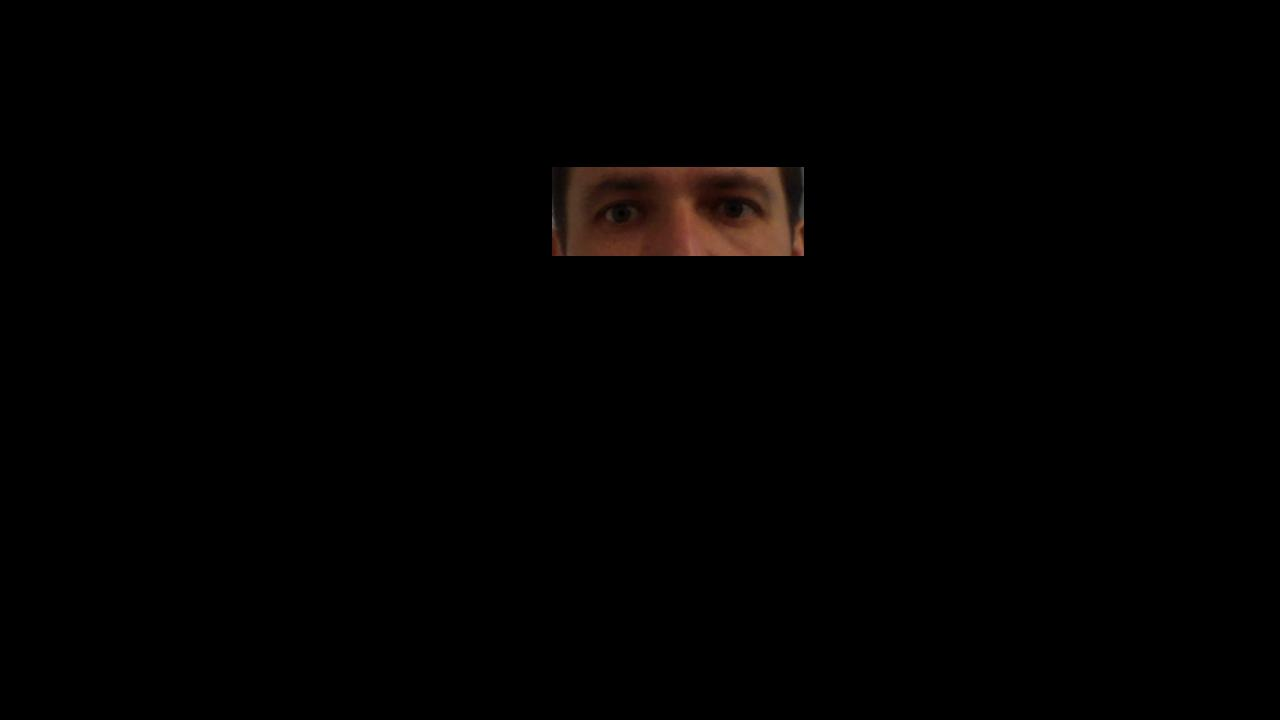eye: (611, 204, 633, 224), (721, 203, 742, 217)
